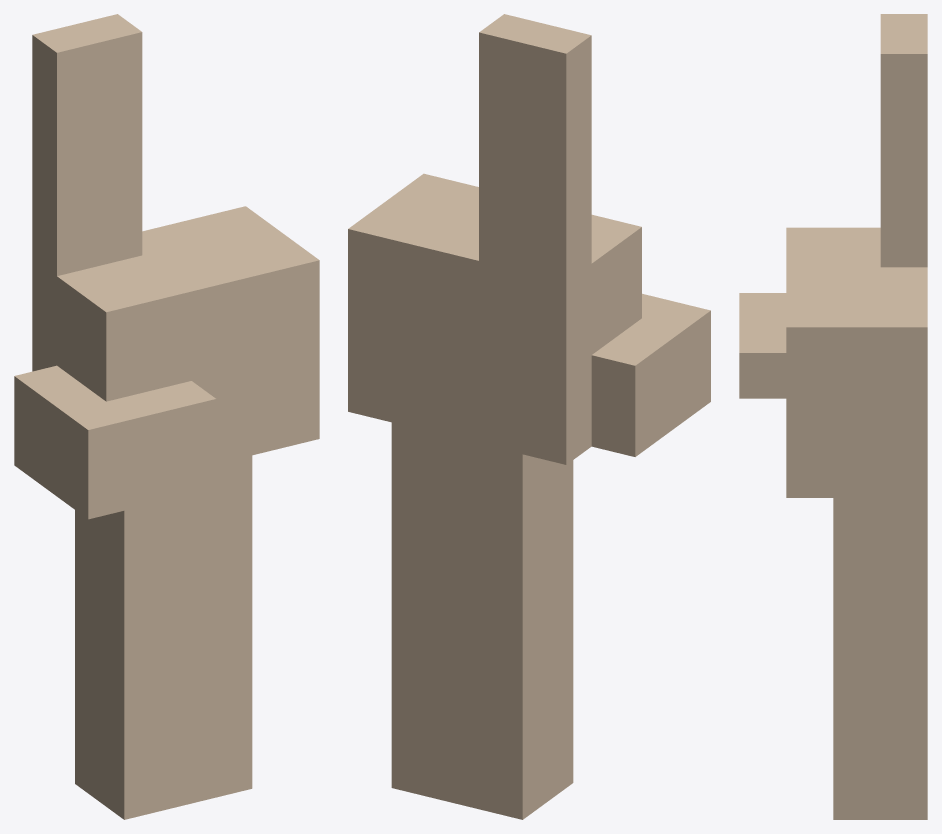
File: hand.glb
3 renders of one model, left to right at view 1: azimuth 30°, elevation 25°; view 2: azimuth 150°, elevation 25°; view 3: azimuth 270°, elevation 25°, orthographic. The views are drawn at different scales.
Parts seen in each view (by area): view 1: Geode; view 2: Geode; view 3: Geode.
Boxes of the visible parts, bbox=[...] form: Geode: bbox=[14, 14, 319, 819]; Geode: bbox=[348, 14, 710, 819]; Geode: bbox=[739, 14, 927, 819].
Bounding box in the file's own units: 0.7366 × 2.09 × 0.491.
